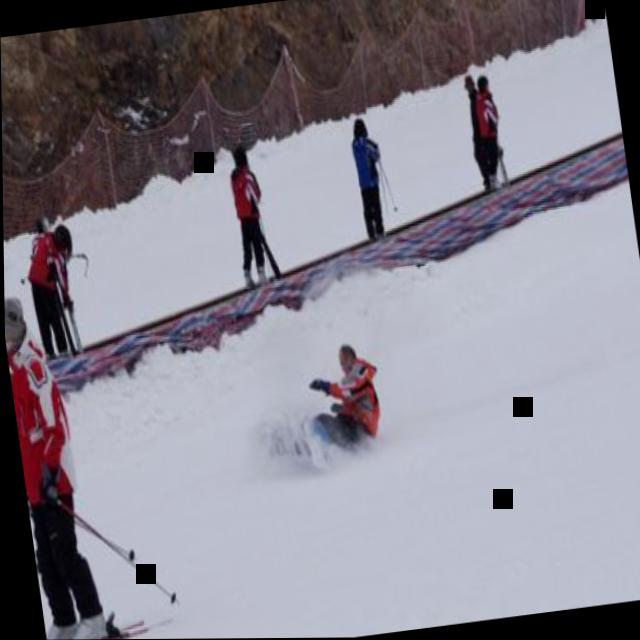Fall-Detected: (289, 320, 391, 459)
